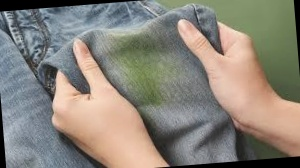earth: (121, 34, 170, 95)
